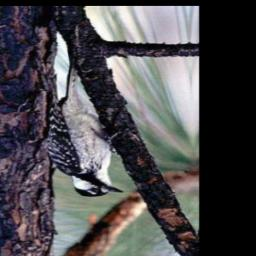Woodpecker: (42, 61, 126, 199)
